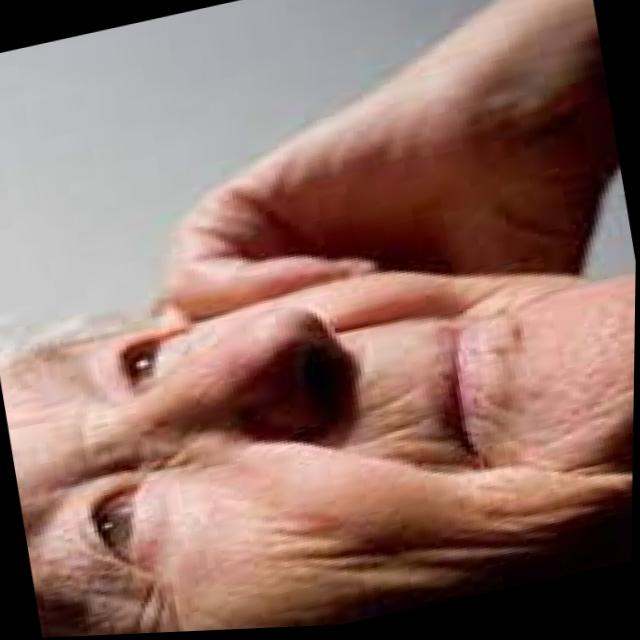Wrinkles: (301, 553, 524, 578), (147, 586, 187, 635), (128, 581, 157, 635)
